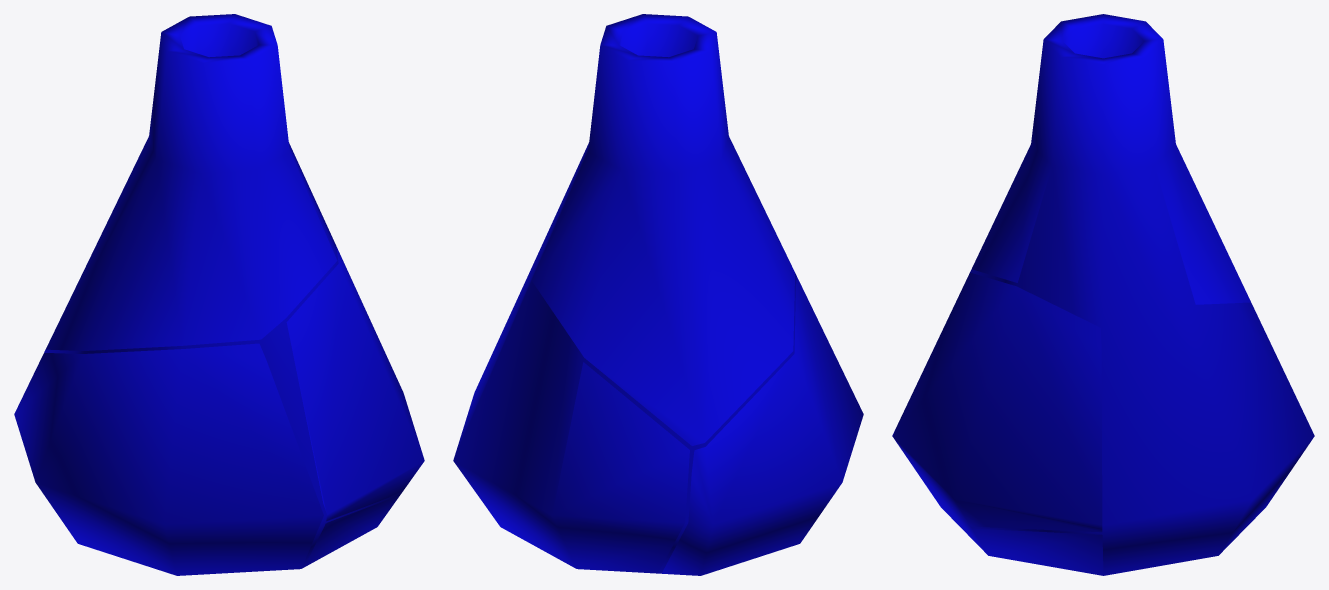
Rendered from Lab_ConicalFlask2.fbx.
3 views of the same model, side by side, from view 1: azimuth 30°, elevation 25°; view 2: azimuth 150°, elevation 25°; view 3: azimuth 270°, elevation 25° (orthographic).
Visible parts, largest first — view 1: Plane.665_cell.002, Plane.665_cell.003, Plane.665_cell.001, Plane.665, Plane.665_cell.004; view 2: Plane.665_cell.003, Plane.665_cell.002, Plane.665, Plane.665_cell; view 3: Plane.665, Plane.665_cell.001, Plane.665_cell.003, Plane.665_cell.004, Plane.665_cell.
Part boxes in pixels (x1=…): Plane.665_cell.002: x1=14, y1=343, x2=323, y2=575; Plane.665_cell.003: x1=45, y1=14, x2=337, y2=350; Plane.665_cell.001: x1=286, y1=246, x2=424, y2=521; Plane.665: x1=44, y1=25, x2=401, y2=575; Plane.665_cell.004: x1=304, y1=495, x2=399, y2=567; Plane.665_cell.003: x1=532, y1=14, x2=794, y2=445; Plane.665_cell.002: x1=662, y1=275, x2=863, y2=575; Plane.665: x1=453, y1=25, x2=796, y2=573; Plane.665_cell: x1=453, y1=362, x2=689, y2=573; Plane.665: x1=892, y1=24, x2=1314, y2=575; Plane.665_cell.001: x1=893, y1=272, x2=1102, y2=532; Plane.665_cell.003: x1=972, y1=14, x2=1250, y2=304; Plane.665_cell.004: x1=905, y1=454, x2=1126, y2=575; Plane.665_cell: x1=1219, y1=436, x2=1314, y2=554.
Bounding box in the file's own units: 0.2184 × 0.2668 × 0.2184.
